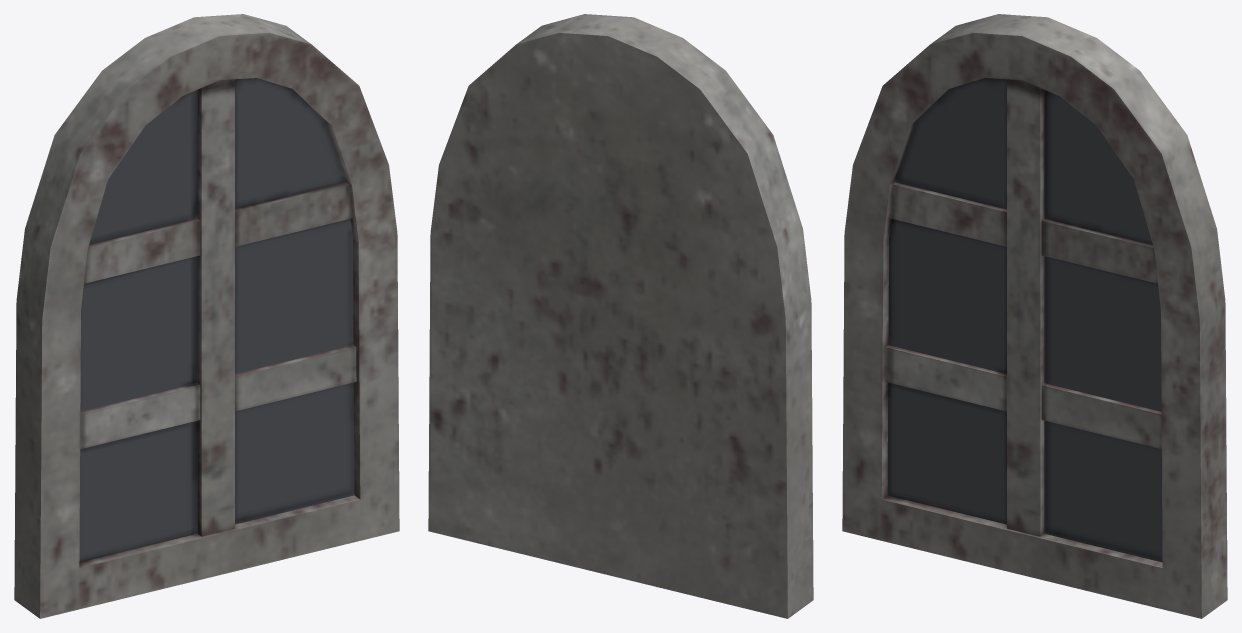
Rendered from sb_obj_outdoor001_Castle01_window00.fbx.
3 renders of one model, left to right at view 1: azimuth 30°, elevation 25°; view 2: azimuth 150°, elevation 25°; view 3: azimuth 330°, elevation 25°, orthographic.
Parts seen in each view (by area): view 1: sb_obj_outdoor001_Castle01_window00; view 2: sb_obj_outdoor001_Castle01_window00; view 3: sb_obj_outdoor001_Castle01_window00.
Boxes of the visible parts, x1,y1,x2,y2 form: sb_obj_outdoor001_Castle01_window00: (14,14,399,618); sb_obj_outdoor001_Castle01_window00: (428,14,813,618); sb_obj_outdoor001_Castle01_window00: (842,14,1227,618).
Size of the model in its own units: 1.05 by 1.51 by 0.1305.
